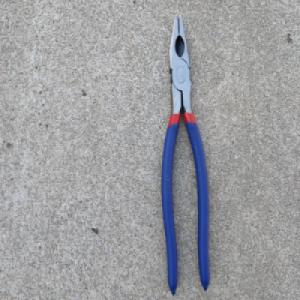Pliers: (158, 12, 210, 296)
